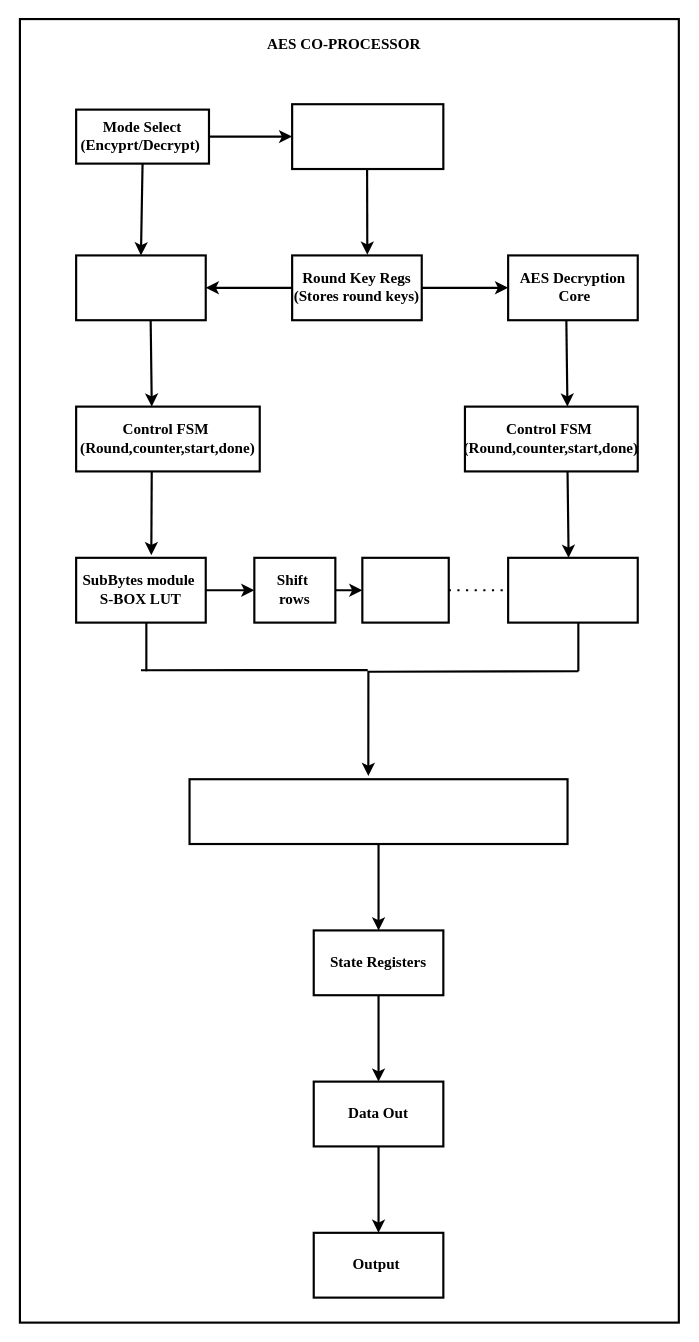
The diagram is 699 pixels wide and 1342 high, and some of its shapes have lost their labels. The centre of each missing label's shape, as x and y in pixels:
Add Round Key (XOR) op[i] = state[i]^key[i]: pixel 378 811
AES Encryption Core: pixel 140 287
AES Key Expansion (Round Key generation): pixel 367 136
Mix rows: pixel 405 589
SubBytes module Inverse S-BOX LUT: pixel 572 589
